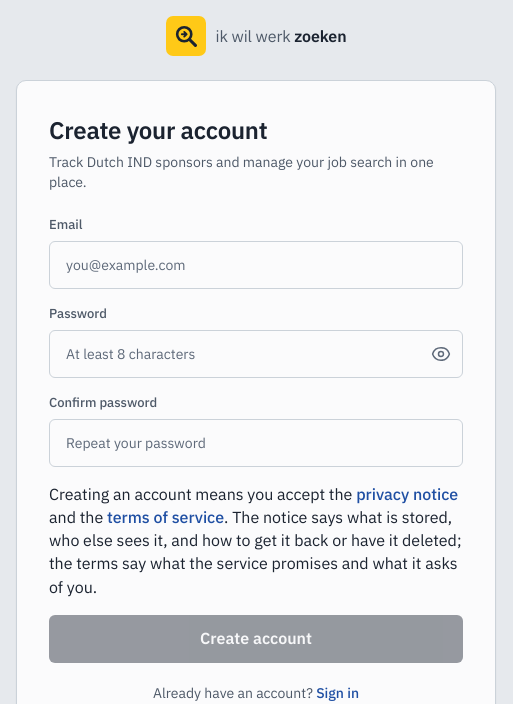
Test case: RegisterView › shows password requirement hint only after typing
Type "ab" into the password field with id "reg-password" at (256, 354), box [49,330,463,378]
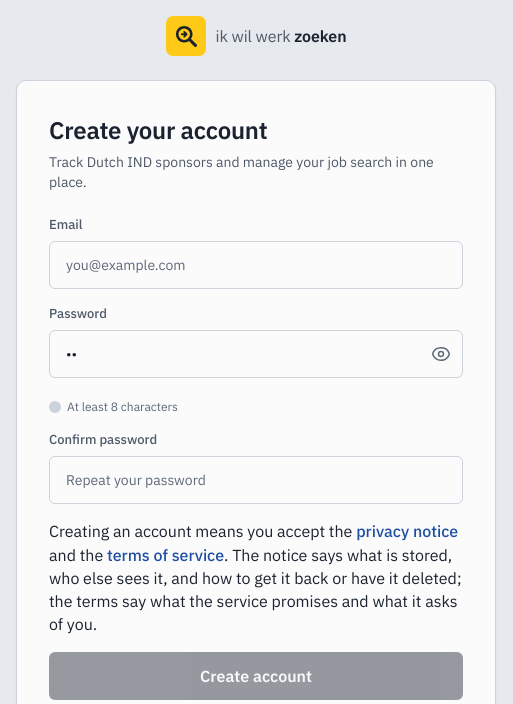
Check: the list item with class "req-fail" is shown, box [67,399,178,414]
Type "password123" into the password field with id "reg-password" at (256, 354), box [49,330,463,378]
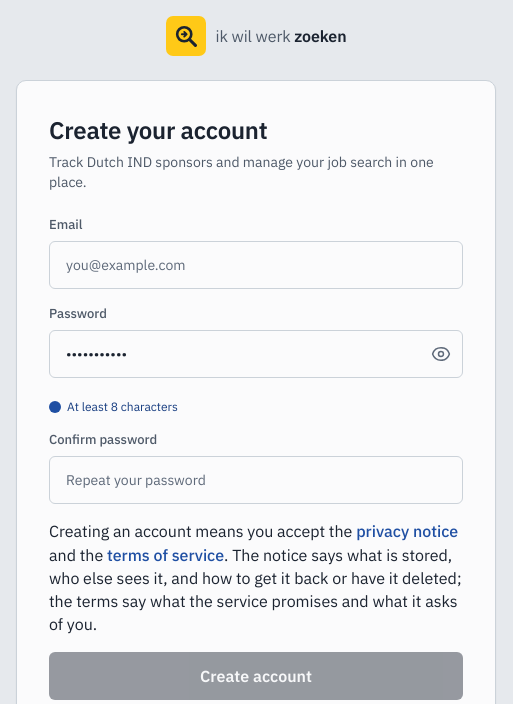
Check: the list item with class "req-ok" is shown, box [67,399,178,414]
